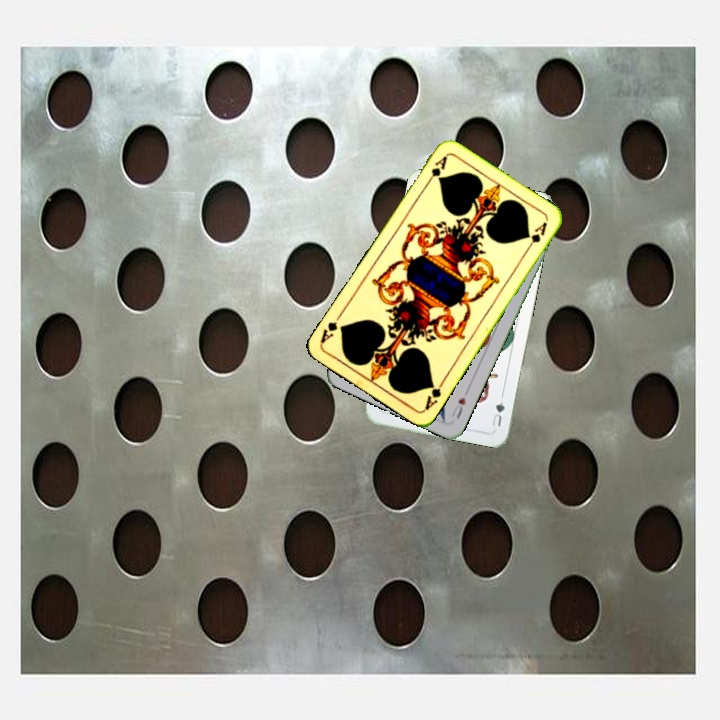GA: (422, 152, 450, 188), (421, 375, 447, 413)
GU: (488, 398, 507, 429)
HU: (447, 386, 471, 421)
